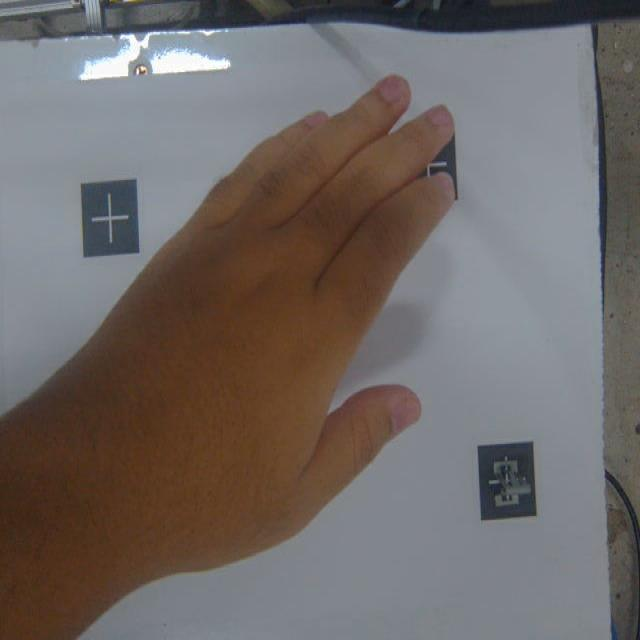pick5: (479, 444, 536, 520)
